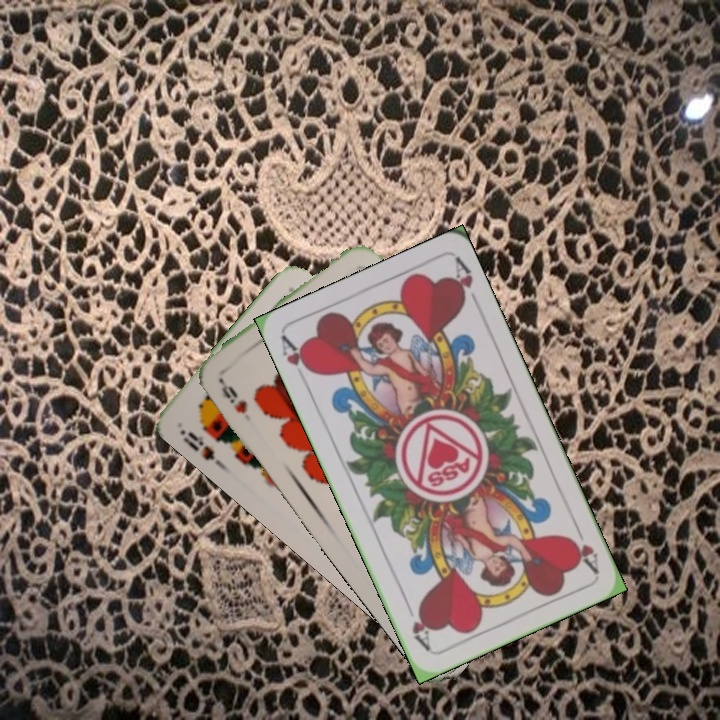H9: (216, 376, 250, 417)
HA: (565, 519, 602, 576), (277, 332, 317, 378)
S8: (183, 427, 217, 463)
